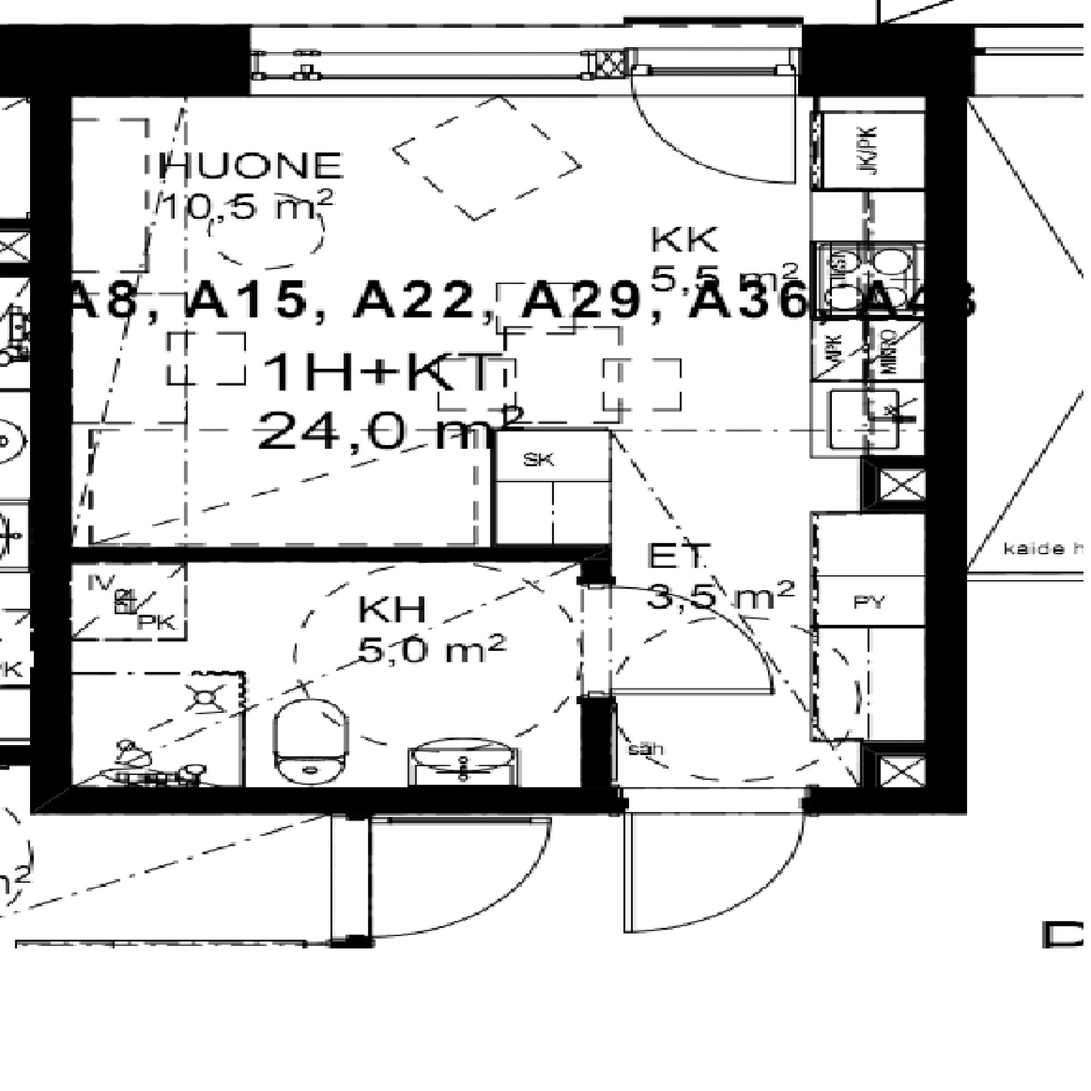wall: (31, 26, 970, 96), (925, 25, 970, 816), (31, 25, 71, 816), (31, 789, 970, 816), (31, 546, 615, 562), (580, 546, 614, 816), (861, 457, 925, 513), (861, 741, 929, 789)
